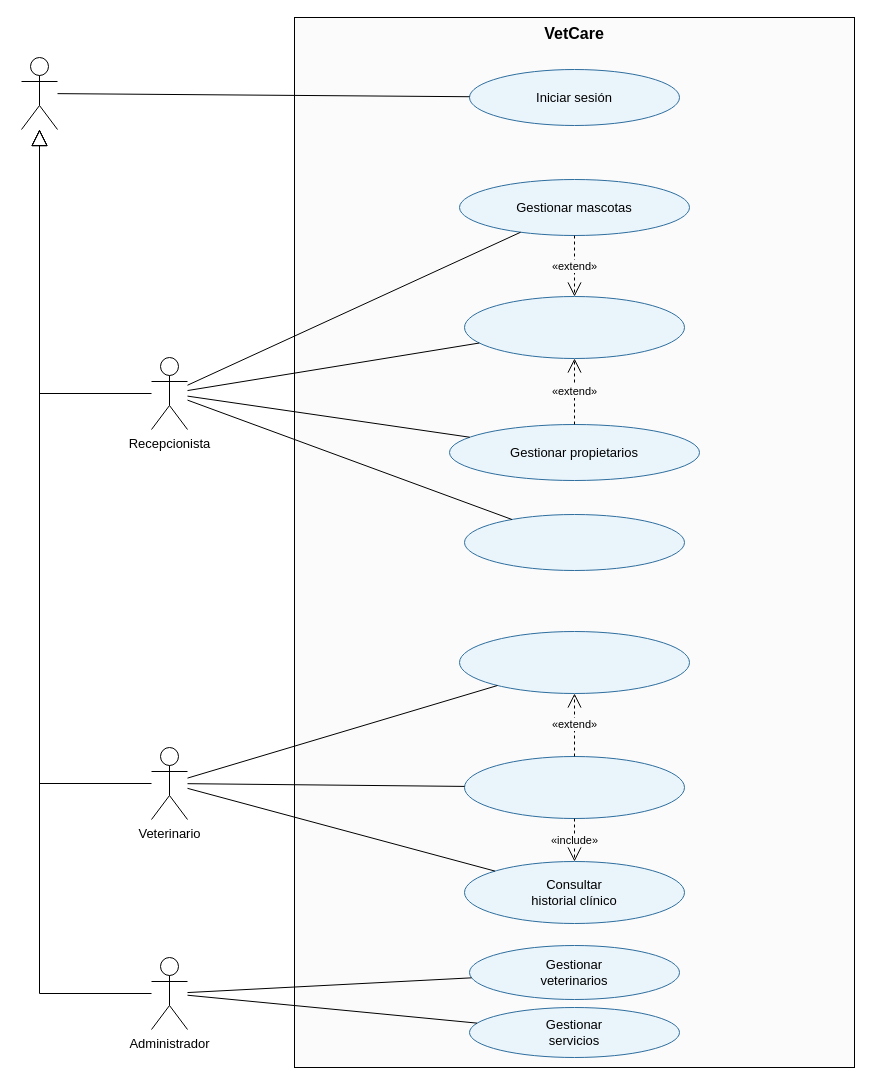
Some shapes in this 872 by 1085 pixel diagram are drawn without their labels. The shapes that lost their labels are listed below. From the top down, each one's centre as x and y in pixels, then its label:
At (39,93): "Usuario".
At (574,327): "Agendar cita".
At (574,542): "Gestionar citas".
At (574,662): "Consultar agenda del día".
At (574,787): "Registrar atención médica".
